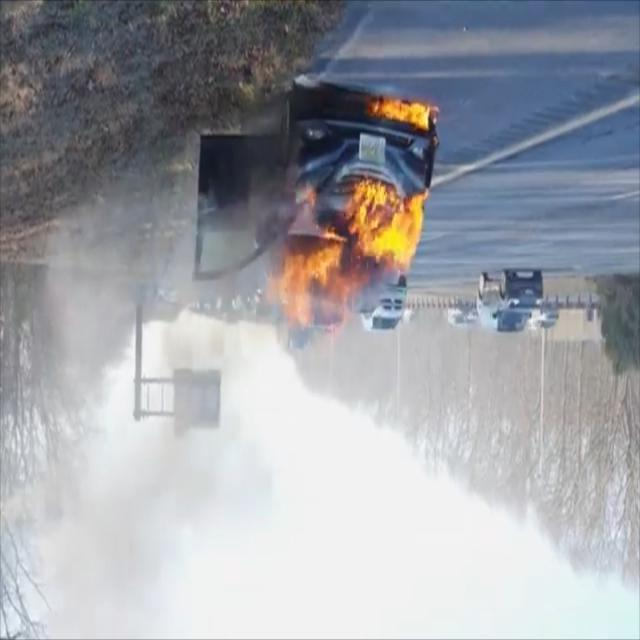fire: (276, 95, 438, 348)
